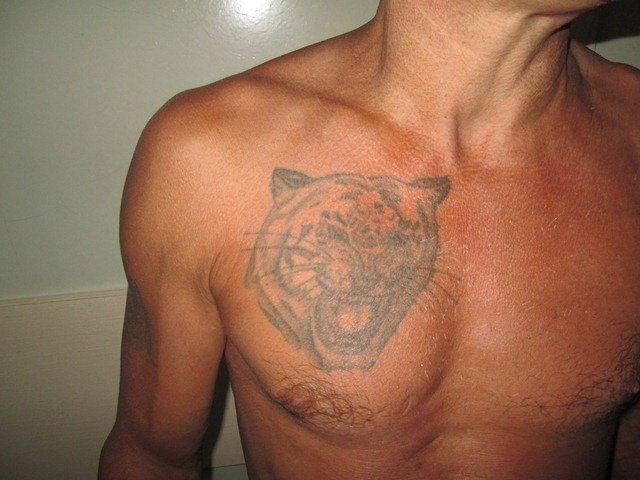tatu5_tigr: (240, 147, 462, 384)
